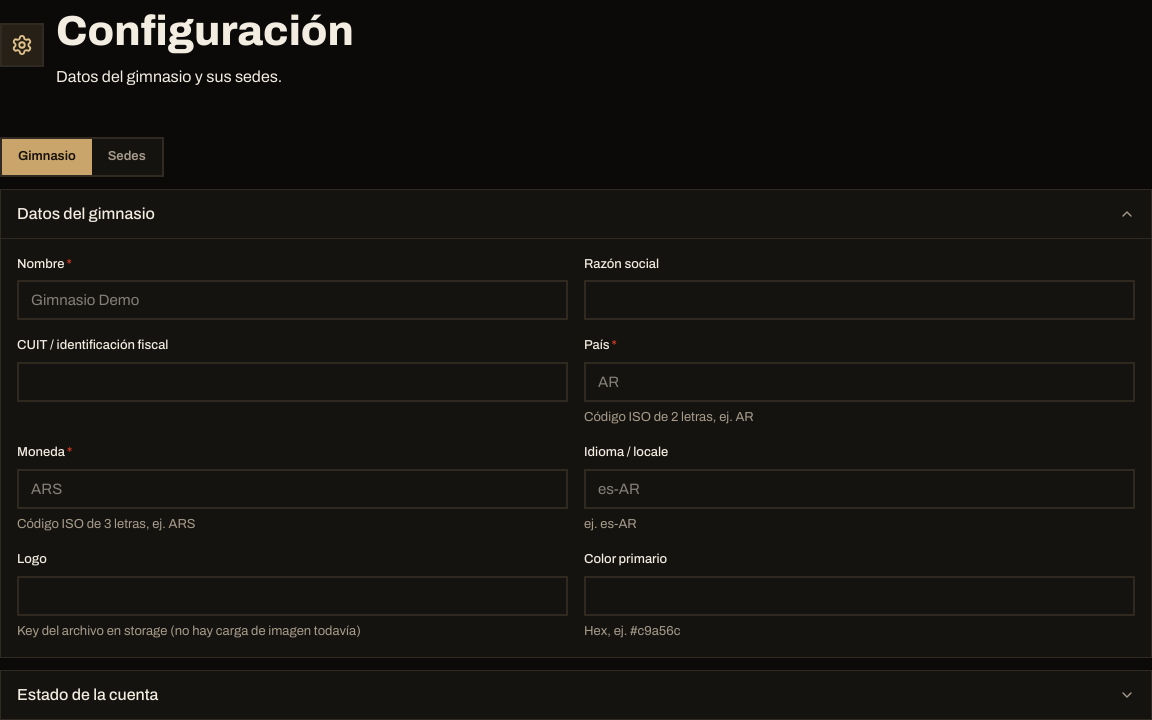
Scenario: ConfigPage › tab Sedes: lista las sedes reales de GET /branches con link a /settings/branches
# Radix Tabs activa con eventos de pointer reales: fireEvent.click no cambia de tab en jsdom.
Click the tab "Sedes" at (127, 157), box [92,139,162,174]
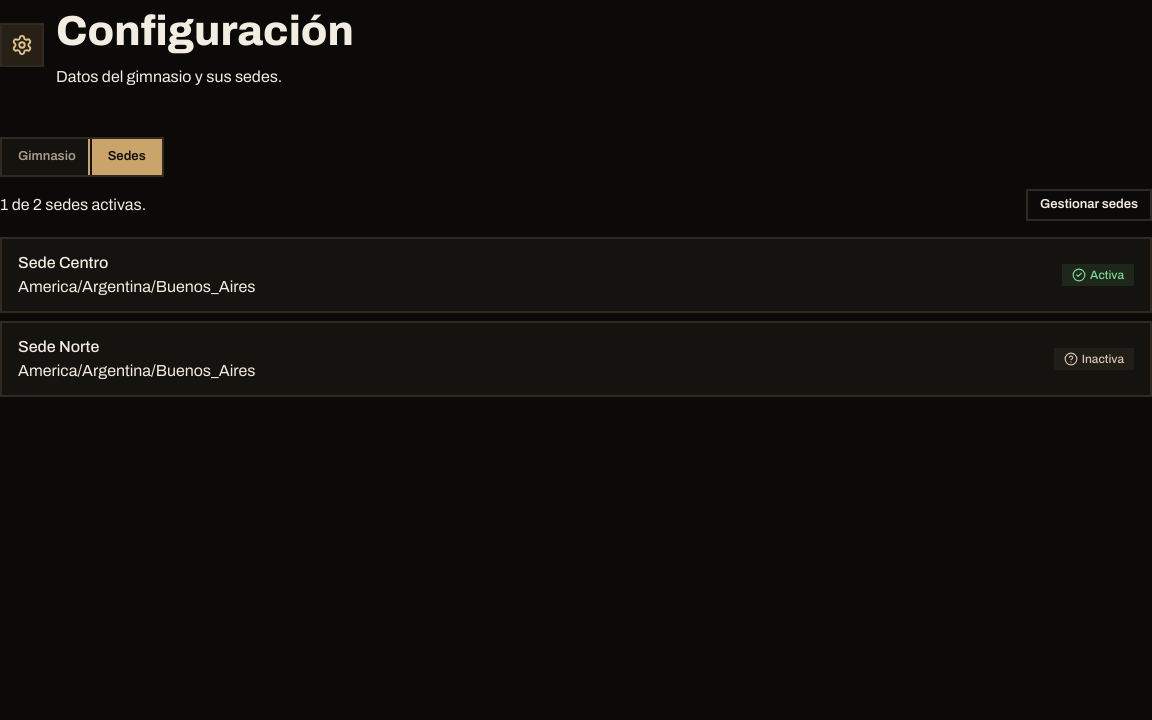
expect the text "Sede Centro" is shown: met, box [18,254,108,270]
expect the text "Sede Norte" is shown: met, box [18,338,99,354]
